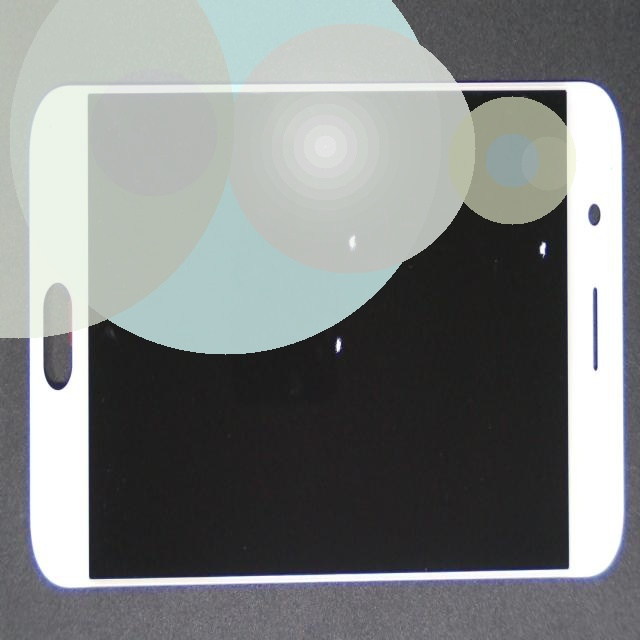stain: (174, 122, 497, 494), (287, 74, 640, 341), (203, 143, 552, 339)
